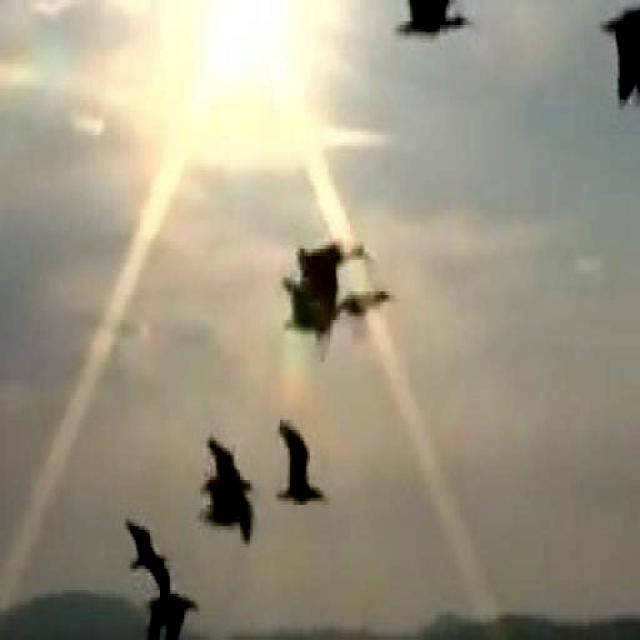airplane: (196, 432, 262, 552), (270, 414, 328, 519), (598, 6, 640, 112), (119, 512, 174, 591), (380, 0, 462, 42), (146, 591, 192, 640)
